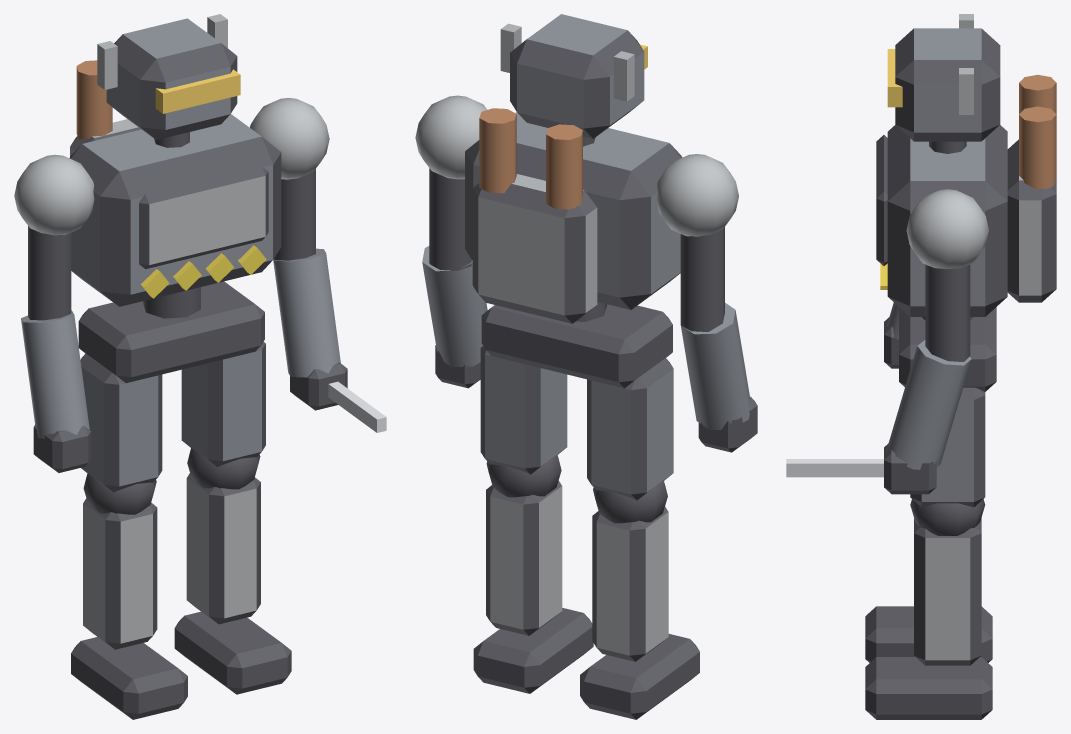
Rendered from rs_robot.glb.
The picture shows the model from 3 angles, left to right: view 1: azimuth 30°, elevation 25°; view 2: azimuth 150°, elevation 25°; view 3: azimuth 270°, elevation 25°; orthographic projection. The views are drawn at different scales.
Parts seen in each view (by area): view 1: rs_robot; view 2: rs_robot; view 3: rs_robot.
Boxes of the visible parts, x1,y1,x2,y2 form: rs_robot: [14, 14, 386, 719]; rs_robot: [415, 14, 757, 719]; rs_robot: [786, 14, 1056, 719].
Bounding box in the file's own units: 0.94 × 1.88 × 0.72.
